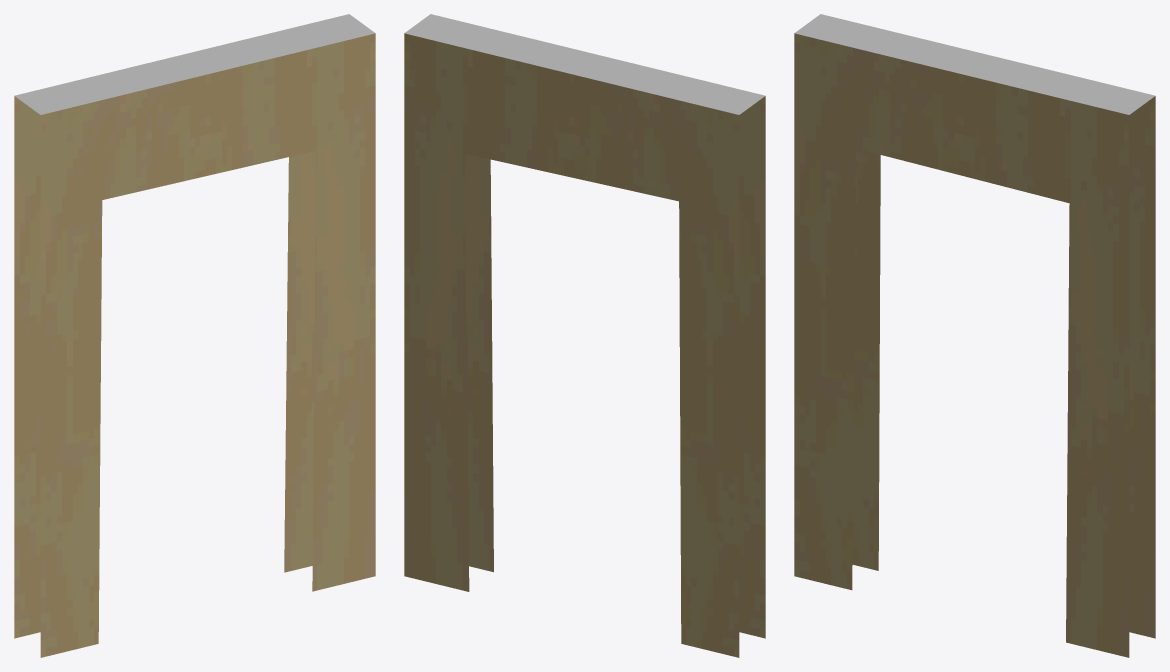
The model's file is W_I2_o_Verschoben_2022.glb.
3 renders of one model, left to right at view 1: azimuth 30°, elevation 25°; view 2: azimuth 150°, elevation 25°; view 3: azimuth 330°, elevation 25°, orthographic.
Parts seen in each view (by area): view 1: pPlaneShape3, pPlaneShape2, pPlaneShape1; view 2: pPlaneShape2, pPlaneShape3, pPlaneShape1; view 3: pPlaneShape3, pPlaneShape2, pPlaneShape1.
Part boxes in pixels (bbox=[...]): pPlaneShape3: bbox=[40, 33, 375, 657]; pPlaneShape2: bbox=[14, 96, 315, 638]; pPlaneShape1: bbox=[14, 14, 375, 114]; pPlaneShape2: bbox=[404, 33, 739, 657]; pPlaneShape3: bbox=[464, 96, 765, 638]; pPlaneShape1: bbox=[404, 14, 765, 114]; pPlaneShape3: bbox=[794, 33, 1129, 657]; pPlaneShape2: bbox=[852, 96, 1155, 638]; pPlaneShape1: bbox=[794, 14, 1155, 114].
Bounding box in the file's own units: 0.2252 × 0.3486 × 0.0308.
3 materials, 2 textured.
